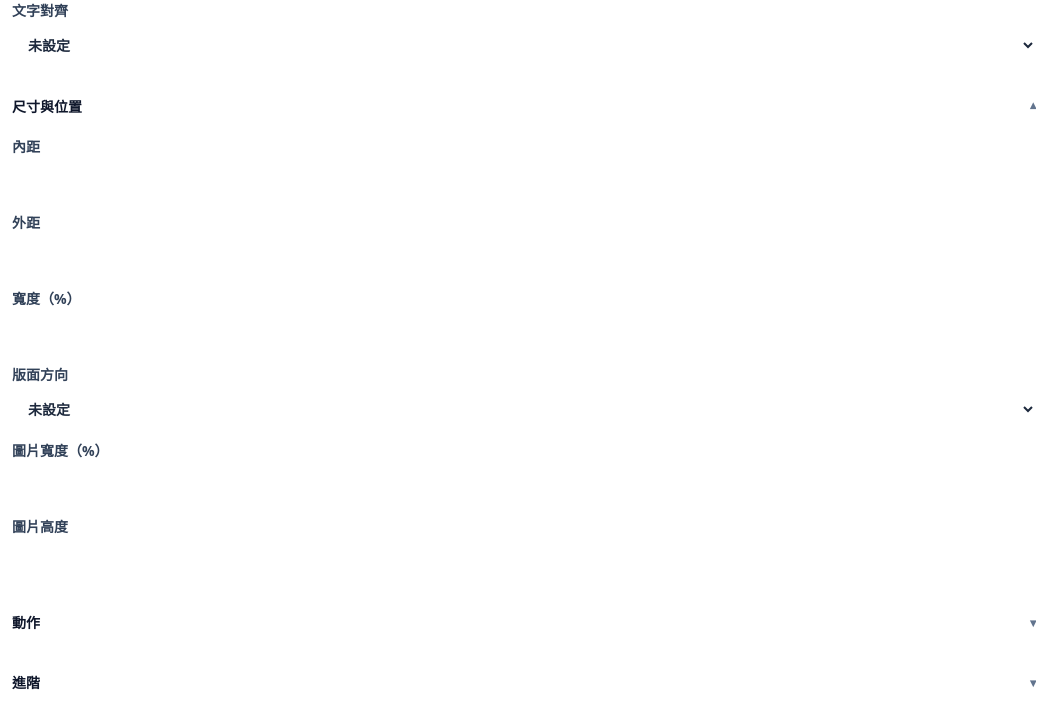
Test: button action picker: 開啟報名表 › flags a stored form that conflicts with the bound live and blocks applying it
(page scrolled)
Click the button "動作 ▾" at (26, 622), box [12, 605, 1036, 641]
(page scrolled)
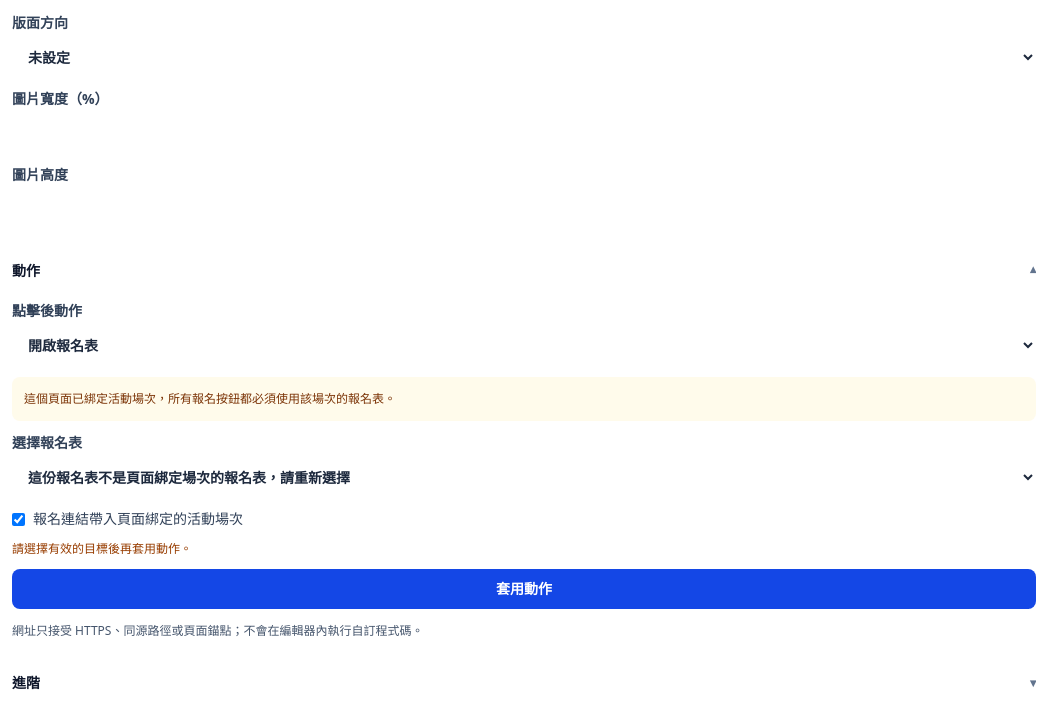
expect the button "套用動作" is disabled: met, box [12, 569, 1036, 609]
